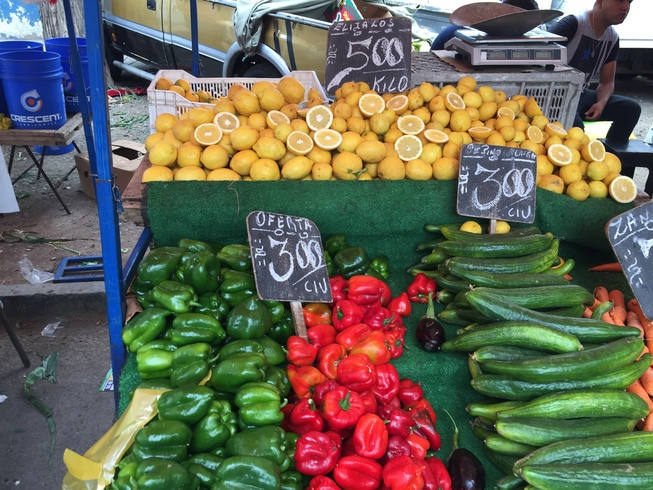precio: (237, 204, 341, 312), (318, 10, 426, 110), (451, 132, 541, 234), (600, 189, 653, 329)
